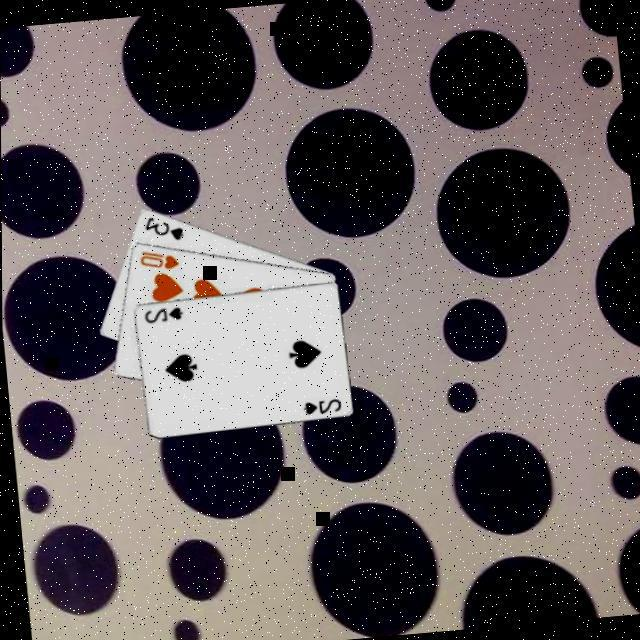10H: (134, 242, 180, 272)
2S: (138, 300, 184, 324), (298, 392, 342, 415)
3S: (140, 208, 184, 244)
